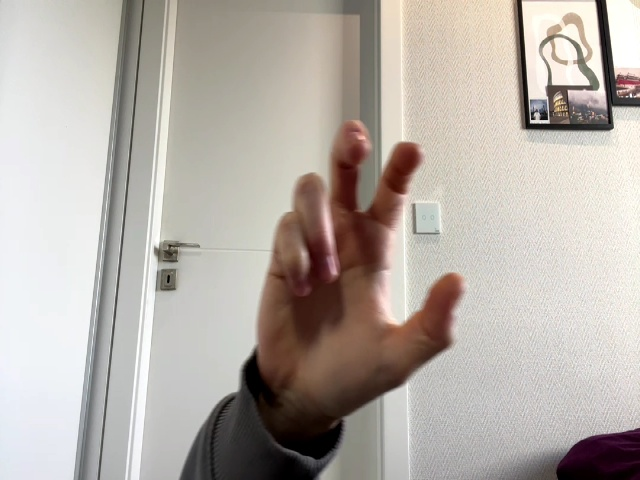CH: (257, 120, 467, 418)
